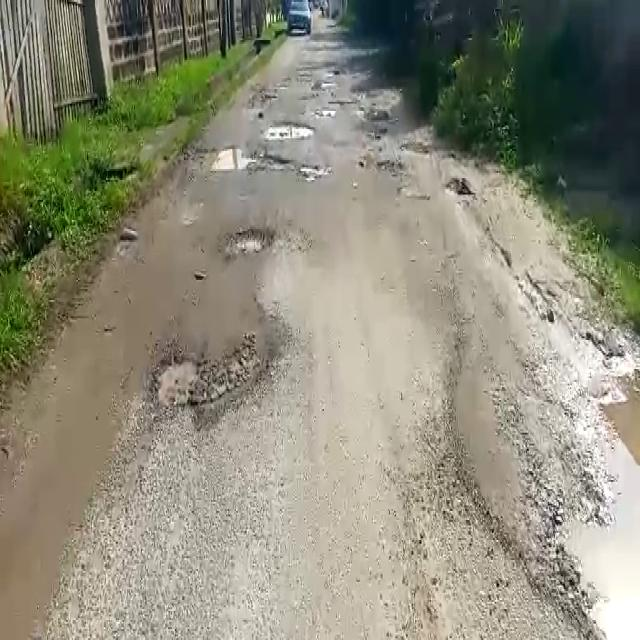Pothole: (554, 369, 639, 640), (147, 325, 283, 429), (204, 146, 296, 172), (221, 224, 278, 258), (260, 118, 316, 139)
